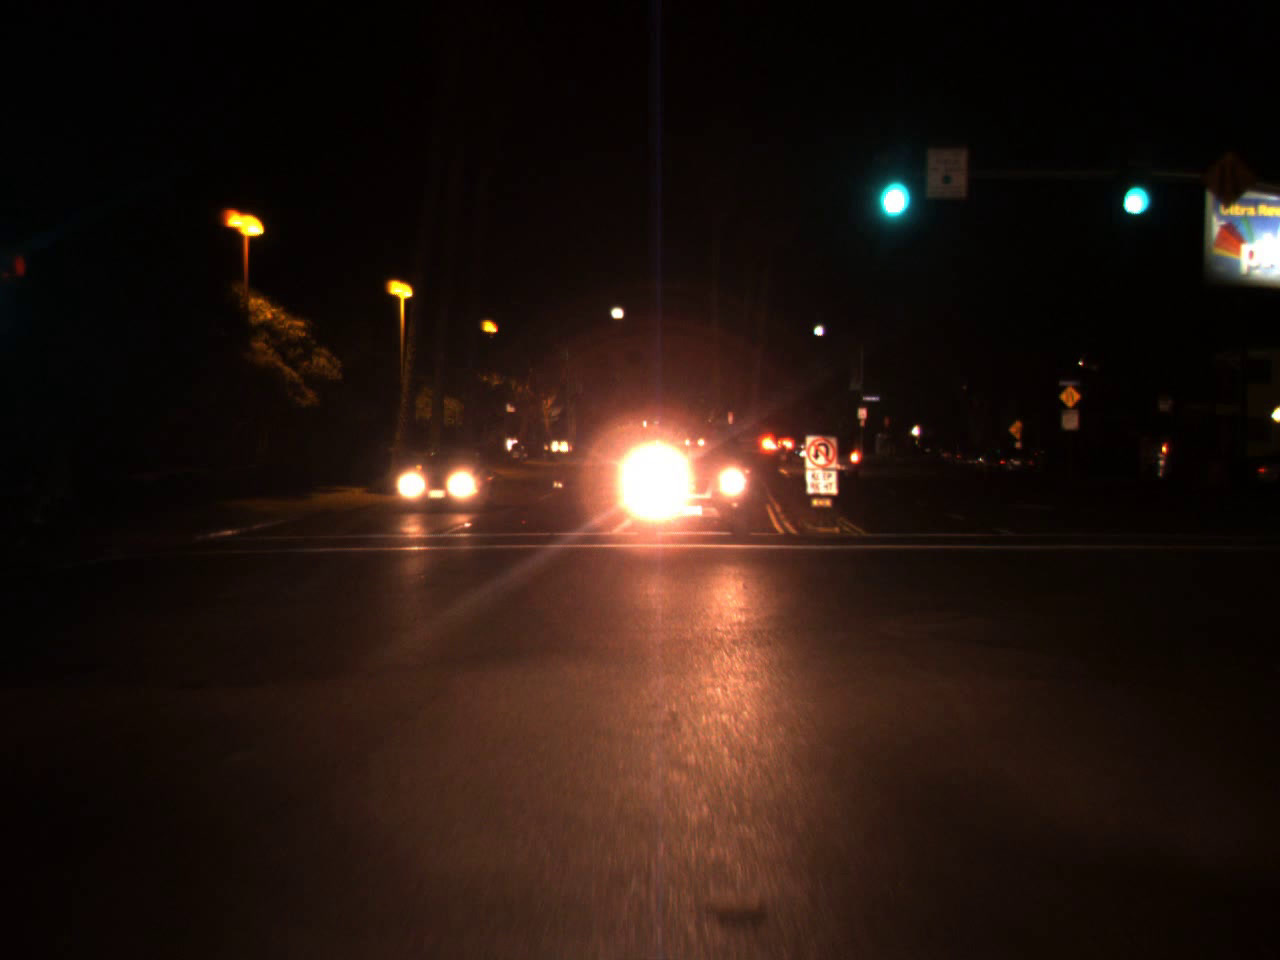go: (870, 142, 911, 229), (1112, 153, 1155, 225)
